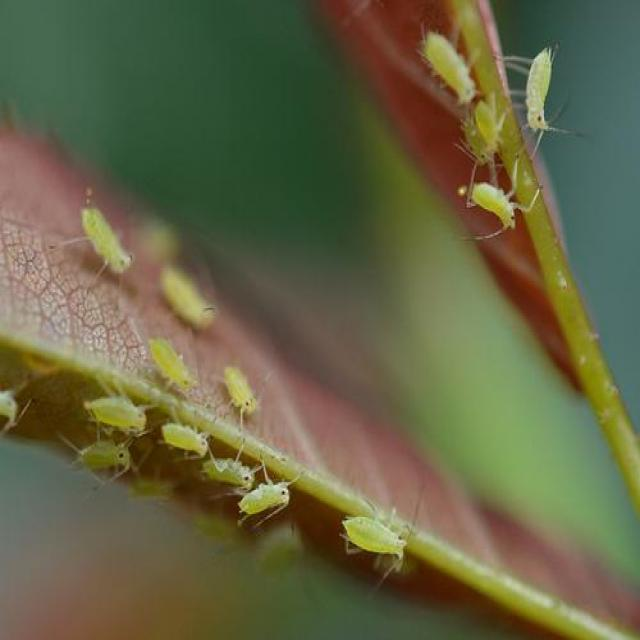aphid: (508, 40, 581, 148), (348, 498, 428, 584), (81, 198, 138, 294), (62, 435, 137, 504), (165, 271, 236, 335), (234, 456, 298, 526), (421, 30, 476, 105), (212, 358, 269, 428), (82, 394, 150, 435), (147, 336, 195, 392), (468, 180, 518, 230), (159, 420, 209, 456)
